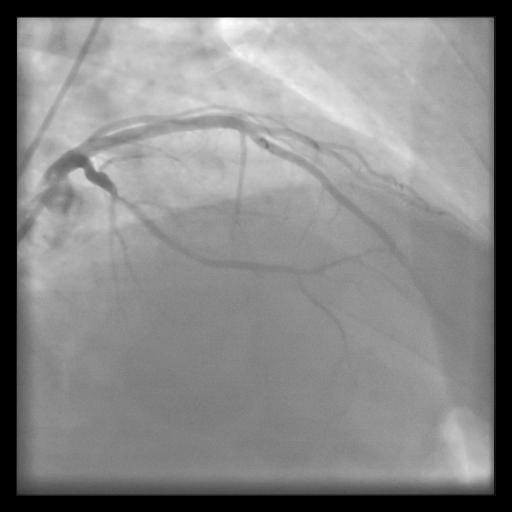Stenosis: (106, 187, 127, 214)
